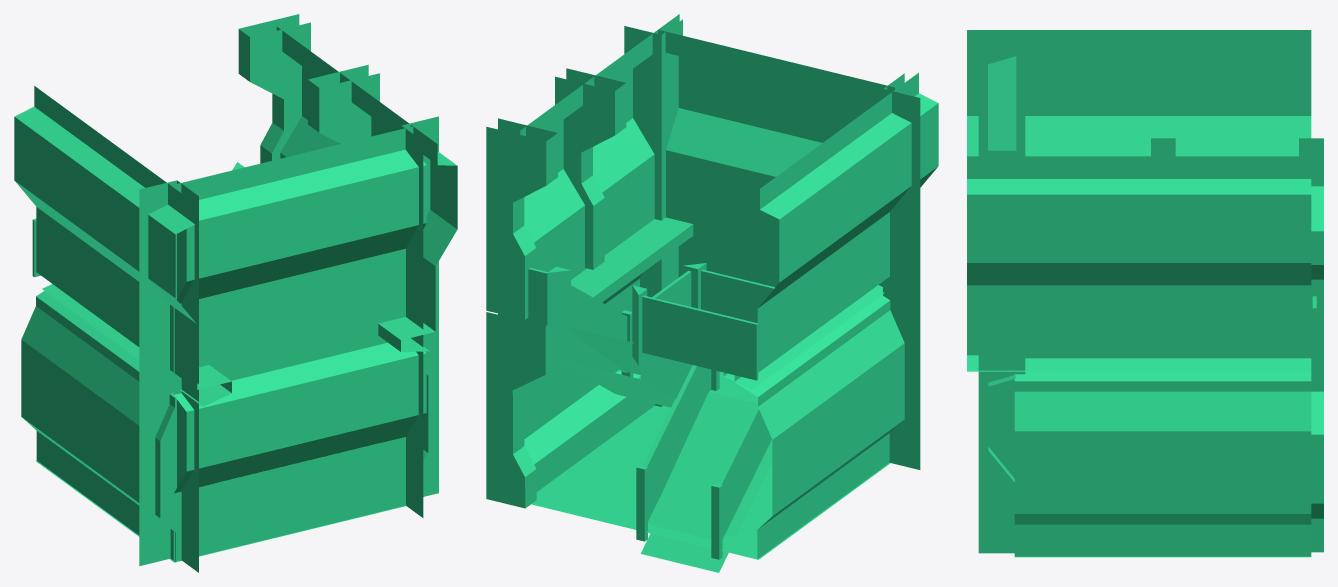
The model's file is ColStairWell.fbx.
3 views of the same model, side by side, from view 1: azimuth 30°, elevation 25°; view 2: azimuth 150°, elevation 25°; view 3: azimuth 270°, elevation 25° (orthographic). The views are drawn at different scales.
Parts seen in each view (by area): view 1: ColStairWell; view 2: ColStairWell; view 3: ColStairWell.
Boxes of the visible parts, x1,y1,x2,y2 form: ColStairWell: [14, 14, 457, 572]; ColStairWell: [486, 14, 938, 572]; ColStairWell: [967, 30, 1323, 557].
Size of the model in its own units: 499 by 637 by 482.
